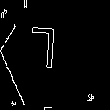L_S: (40, 29, 70, 81)
